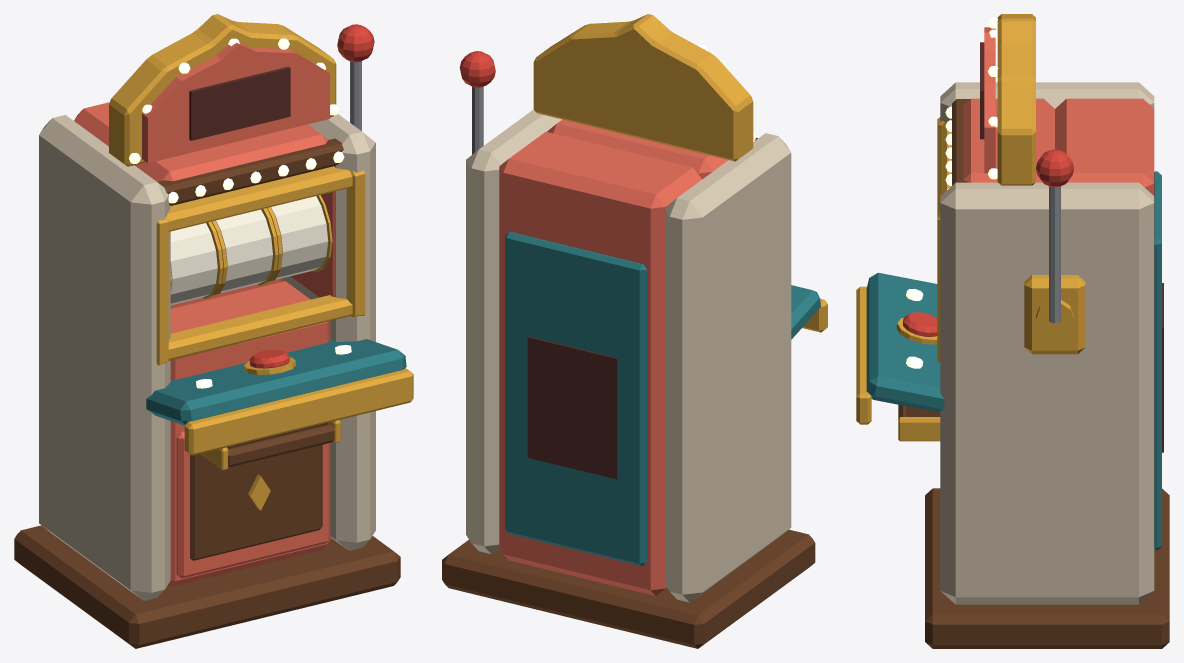
File: slot_machine.glb
The picture shows the model from 3 angles, left to right: view 1: azimuth 30°, elevation 25°; view 2: azimuth 150°, elevation 25°; view 3: azimuth 270°, elevation 25°; orthographic projection. The views are drawn at different scales.
Visible parts, largest first — view 1: slot_machine, part_reel_1, part_reel_2, part_reel_0, part_lever, part_button; view 2: slot_machine, part_lever; view 3: slot_machine, part_lever, part_button.
Boxes of the visible parts, x1,y1,x2,y2 form: slot_machine: [14, 14, 413, 648]; part_reel_1: [216, 209, 272, 293]; part_reel_2: [270, 196, 328, 279]; part_reel_0: [170, 223, 217, 305]; part_lever: [337, 24, 374, 130]; part_button: [250, 349, 289, 368]; slot_machine: [442, 14, 827, 648]; part_lever: [459, 51, 495, 154]; slot_machine: [856, 14, 1169, 648]; part_lever: [1036, 149, 1073, 323]; part_button: [903, 312, 937, 336].
Bounding box in the file's own units: 0.9176 × 1.63 × 0.82.
